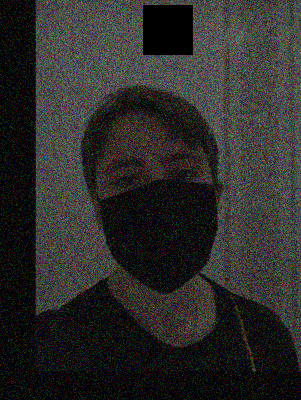with_mask: (99, 132, 218, 294)
